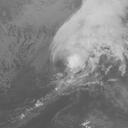cyclone: (49, 21, 112, 85)
